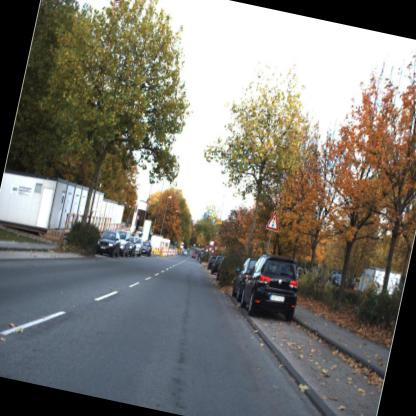danger: (262, 206, 284, 235)
